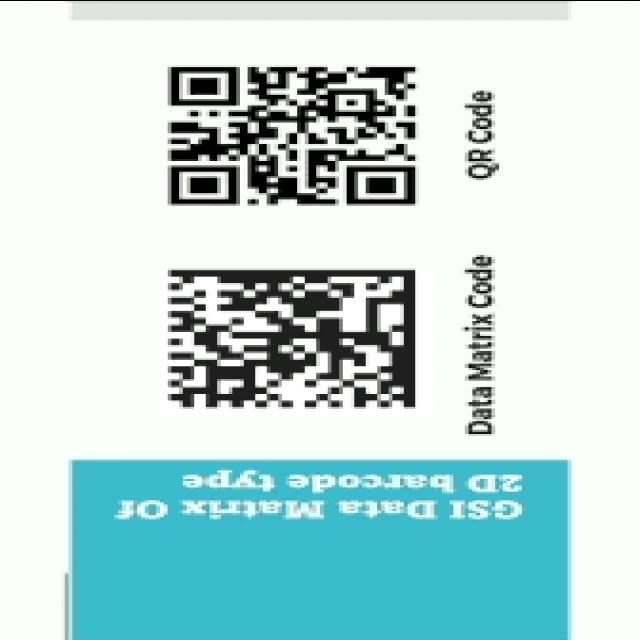Data-Matrix: (152, 263, 438, 418)
